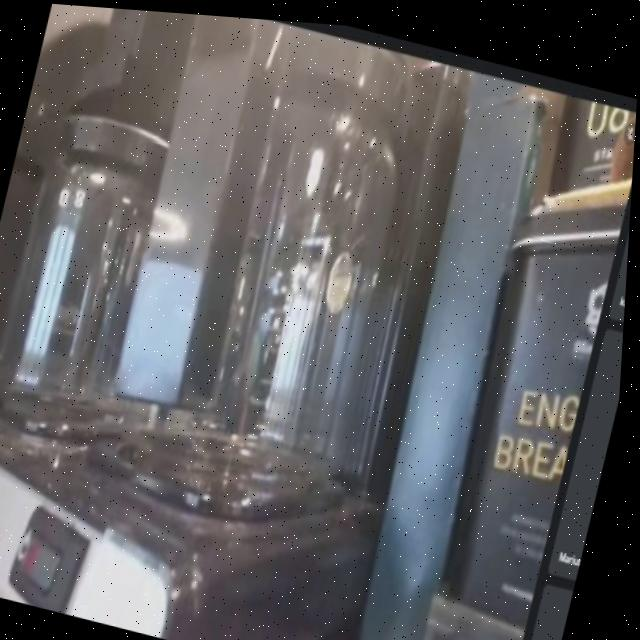nocoffee: (52, 4, 442, 524), (0, 59, 239, 466)
